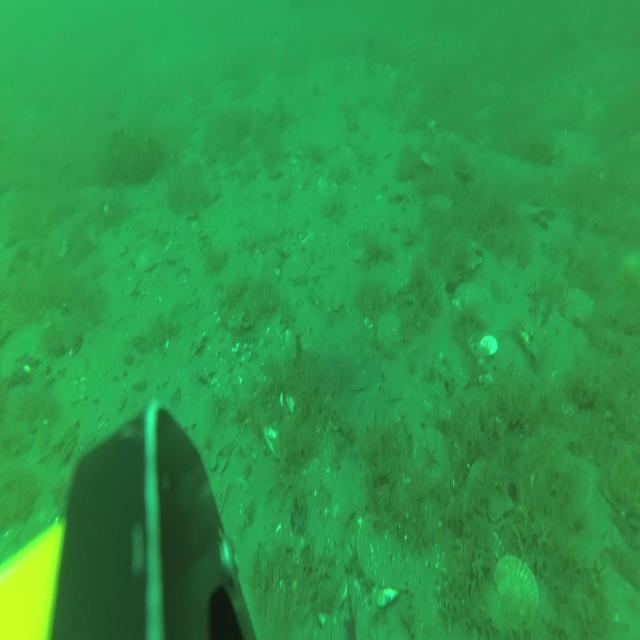scallop: (494, 550, 540, 634), (356, 512, 406, 588), (466, 456, 515, 524), (561, 281, 597, 329), (450, 234, 482, 276), (376, 308, 405, 351), (133, 240, 167, 276), (280, 248, 313, 284), (455, 278, 486, 314), (352, 227, 381, 265)
